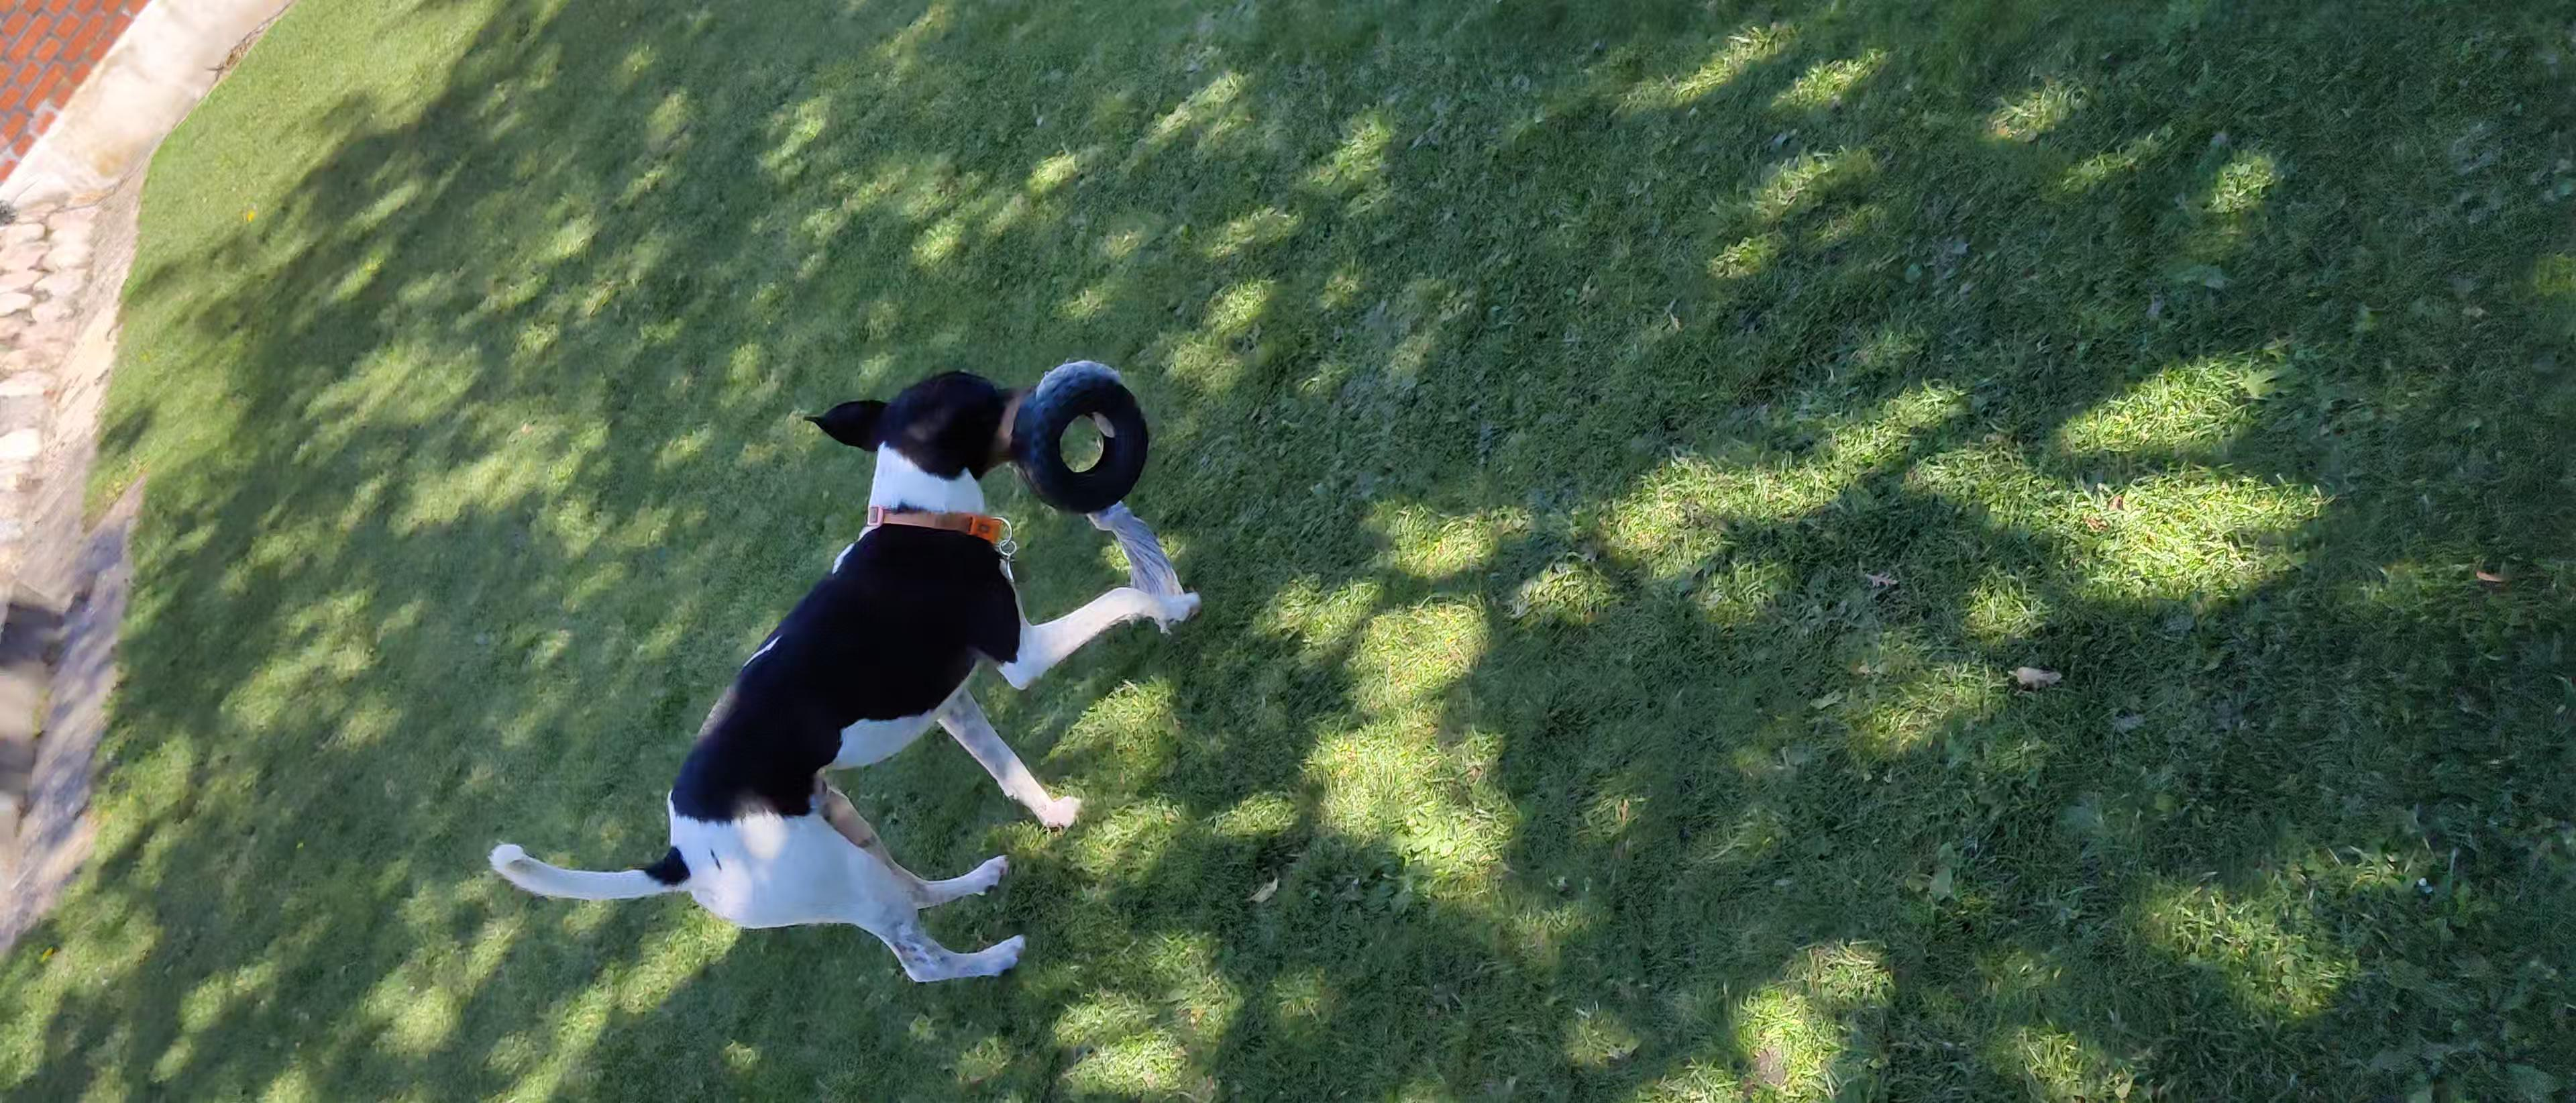Dog: (481, 365, 1206, 986)
